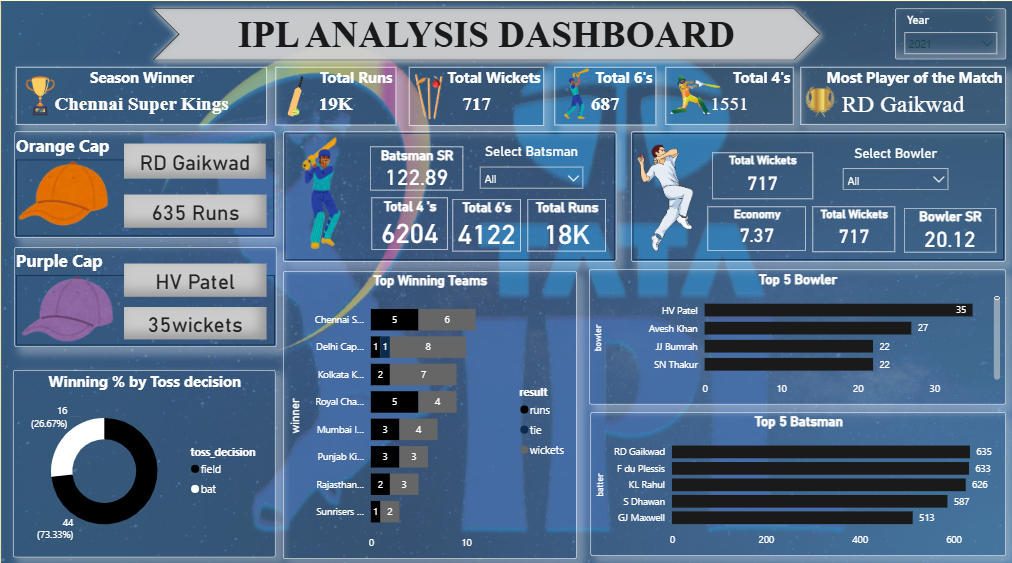

The dashboard page shown, as its layout file describes it:
{"tool":"powerbi","page":{"name":"Page 1","canvas":[1280,720],"ordinal":0},"visuals":[{"type":"shape","box":[356,164,420,164],"z":0},{"type":"shape","title":"Orange Cap","box":[16.8,163.7,328.9,134.2],"z":1000},{"type":"shape","box":[182,0,860,84],"z":2000},{"type":"slicer","fields":{"Values":["Date_Table.Year"]},"box":[1126,10,140,64],"z":3000},{"type":"card","title":"Season Winner","fields":{"Values":["Date_Table.SeasonWinner"]},"box":[18.8,83.8,316.2,72.5],"z":4000},{"type":"card","title":"Total Runs","fields":{"Values":["Sum(deliveries.total_runs)"]},"box":[346.7,83.3,151.7,73.3],"z":5000},{"type":"card","title":"Total Wickets","fields":{"Values":["Sum(deliveries.is_wicket)"]},"box":[513.8,83.8,170,73.8],"z":6000},{"type":"card","title":"Total 6''s","fields":{"Values":["CountNonNull(deliveries.batsman_runs)"]},"box":[697.8,83.3,127.8,73.3],"z":7000},{"type":"card","title":"Total 4''s","fields":{"Values":["CountNonNull(deliveries.batsman_runs)"]},"box":[836.4,83.6,161.4,72.9],"z":8000},{"type":"card","title":"Most Player of the Match","fields":{"Values":["Min(matches.player_of_match)"]},"box":[1007.5,83.8,258.8,72.5],"z":9000},{"type":"card","fields":{"Values":["Date_Table.Orange cap"]},"box":[155.9,244.1,179.4,41.8],"z":10000},{"type":"card","fields":{"Values":["Min(deliveries.batter)"]},"box":[155.7,180,178.6,44.3],"z":11000},{"type":"image","box":[16.8,182.1,125.8,124.2],"z":12000},{"type":"image","box":[16.7,75,65,88.3],"z":13000},{"type":"image","box":[316.7,83.3,106.7,73.3],"z":14000},{"type":"image","box":[498.3,83.3,80,78.3],"z":15000},{"type":"image","box":[683.2,78.2,84.3,78.2],"z":16000},{"type":"image","box":[835,72.1,78.6,97.9],"z":17000},{"type":"shape","title":"Purple Cap","box":[16.2,310,330,126.2],"z":18000},{"type":"card","fields":{"Values":["Min(deliveries.bowler)"]},"box":[155.5,330.9,179.1,41.8],"z":19000},{"type":"card","fields":{"Values":["Date_Table.Purple Cap"]},"box":[155.5,385.5,179.1,40.9],"z":20000},{"type":"image","box":[0,339,170,100],"z":21000},{"type":"image","box":[997.9,98.6,70,58.6],"z":22000},{"type":"donutChart","title":"Winning % by Toss decision","fields":{"Category":["matches.toss_decision"],"Y":["CountNonNull(matches.winner)"]},"box":[15.1,464.9,330.7,236.2],"z":23000},{"type":"barChart","title":"Top 5 Bowler","fields":{"Category":["deliveries.bowler"],"Y":["Sum(deliveries.is_wicket)"]},"box":[740.8,338.3,525.4,170.1],"z":24000},{"type":"barChart","title":"Top 5 Batsman","fields":{"Category":["deliveries.batter"],"Y":["Sum(deliveries.batsman_runs)"]},"box":[742.7,517.8,523.5,181.4],"z":25000},{"type":"barChart","title":"Top Winning Teams","fields":{"Category":["matches.winner"],"Y":["CountNonNull(matches.winner)"],"Series":["matches.result"]},"box":[355,340,370,362.5],"z":26000},{"type":"image","box":[313.8,161.5,168.5,162.3],"z":27000},{"type":"slicer","title":"Select Batsman","fields":{"Values":["deliveries.batter"]},"box":[592.5,180,150,57.5],"z":30000},{"type":"card","title":"Total Runs","fields":{"Values":["Sum(deliveries.batsman_runs)"]},"box":[662.9,248.6,98.6,65.7],"z":31000},{"type":"card","title":"Total 4 ''s","fields":{"Values":["Sum(deliveries.batsman_runs)"]},"box":[466,248,96,66],"z":32000},{"type":"card","title":"Total 6''s","fields":{"Values":["Sum(deliveries.batsman_runs)"]},"box":[568.6,248.6,85.7,65.7],"z":33000},{"type":"card","title":"Batsman SR","fields":{"Values":["Date_Table.Batsman SR"]},"box":[465,182.5,117.5,55],"z":34000},{"type":"shape","box":[794,164,472,164],"z":37000},{"type":"slicer","title":"Select Bowler","fields":{"Values":["deliveries.bowler"]},"box":[1050,181.4,152.9,70],"z":38500},{"type":"card","title":"Total Wickets","fields":{"Values":["Sum(deliveries.is_wicket)"]},"box":[1021.4,258.6,104.3,57.1],"z":39000},{"type":"card","title":"Economy","fields":{"Values":["deliveries.Bowling Economy"]},"box":[890,258,124,56],"z":39500},{"type":"card","title":"Total Wickets","fields":{"Values":["Sum(deliveries.is_wicket)"]},"box":[895.7,190,127.1,58.6],"z":40000},{"type":"image","box":[776,176,120,144],"z":40500},{"type":"card","title":"Bowler SR","fields":{"Values":["Date_Table.Bowler SR"]},"box":[1137.1,260,115.7,55.7],"z":41001}]}

Visuals, with their boxes in screenshot pixels (x1, y1, x2, y2), scaled from the page's 1280x720 canvas onto the 1012x563 screenshot:
shape: rect(281, 128, 614, 256)
"Orange Cap" shape: rect(13, 128, 273, 233)
shape: rect(144, 0, 824, 66)
slicer - Date_Table.Year: rect(890, 8, 1001, 58)
"Season Winner" card: rect(15, 66, 265, 122)
"Total Runs" card: rect(274, 65, 394, 122)
"Total Wickets" card: rect(406, 66, 541, 123)
"Total 6''s" card: rect(552, 65, 653, 122)
"Total 4''s" card: rect(661, 65, 789, 122)
"Most Player of the Match" card: rect(797, 66, 1001, 122)
card - Date_Table.Orange cap: rect(123, 191, 265, 224)
card - Min(deliveries.batter): rect(123, 141, 264, 175)
image: rect(13, 142, 113, 240)
image: rect(13, 59, 65, 128)
image: rect(250, 65, 335, 122)
image: rect(394, 65, 457, 126)
image: rect(540, 61, 607, 122)
image: rect(660, 56, 722, 133)
"Purple Cap" shape: rect(13, 242, 274, 341)
card - Min(deliveries.bowler): rect(123, 259, 265, 291)
card - Date_Table.Purple Cap: rect(123, 301, 265, 333)
image: rect(0, 265, 134, 343)
image: rect(789, 77, 844, 123)
"Winning % by Toss decision" donutChart: rect(12, 364, 273, 548)
"Top 5 Bowler" barChart: rect(586, 265, 1001, 398)
"Top 5 Batsman" barChart: rect(587, 405, 1001, 547)
"Top Winning Teams" barChart: rect(281, 266, 573, 549)
image: rect(248, 126, 381, 253)
"Select Batsman" slicer: rect(468, 141, 587, 186)
"Total Runs" card: rect(524, 194, 602, 246)
"Total 4 ''s" card: rect(368, 194, 444, 246)
"Total 6''s" card: rect(450, 194, 517, 246)
"Batsman SR" card: rect(368, 143, 461, 186)
shape: rect(628, 128, 1001, 256)
"Select Bowler" slicer: rect(830, 142, 951, 197)
"Total Wickets" card: rect(808, 202, 890, 247)
"Economy" card: rect(704, 202, 802, 246)
"Total Wickets" card: rect(708, 149, 809, 194)
image: rect(614, 138, 708, 250)
"Bowler SR" card: rect(899, 203, 990, 247)
